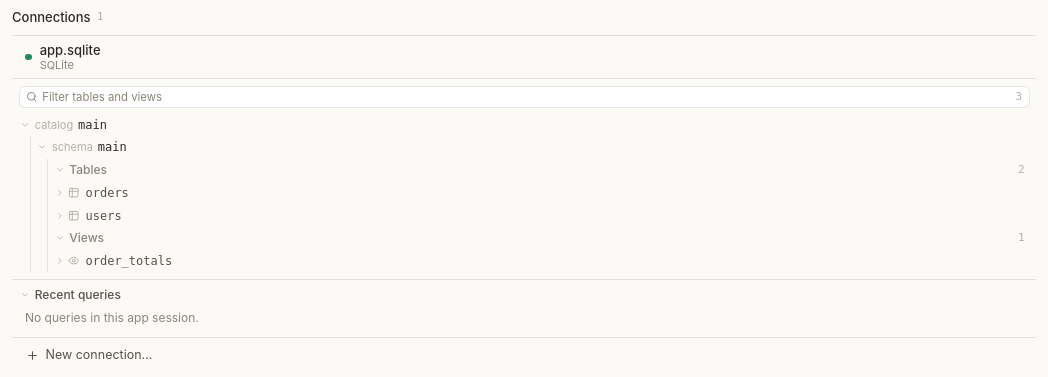
it: DatabaseNavContent P5 bounded regions › filters the object tree by name, reports no matches, and clears on Escape
Expected: the number of list items with test id "db-object-row" is 3, [51,181,1031,204]; [51,204,1031,227]; [51,250,1031,272]
Note: Collapsed groups reopen while filtering so a match is never hidden.
Click the button "Tables 2" at x=88, y=170, box [51,159,1031,181]
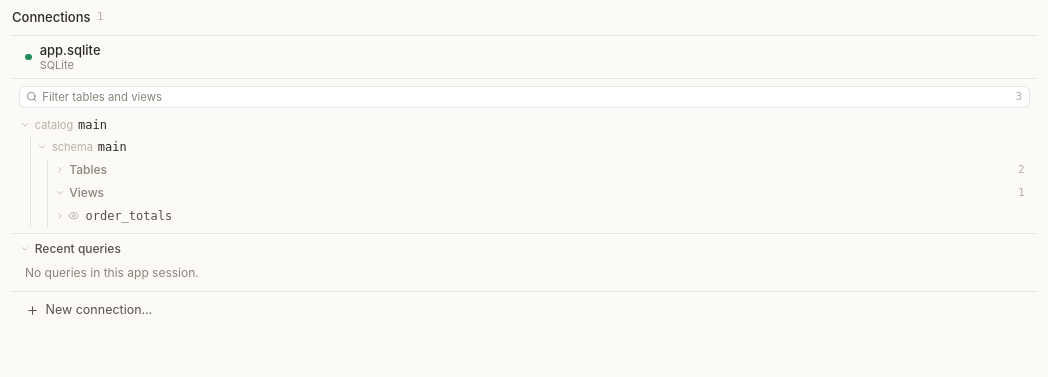
Type "ORDER" into the search field named "Filter database objects" at x=526, y=97, box [37,84,1015,110]
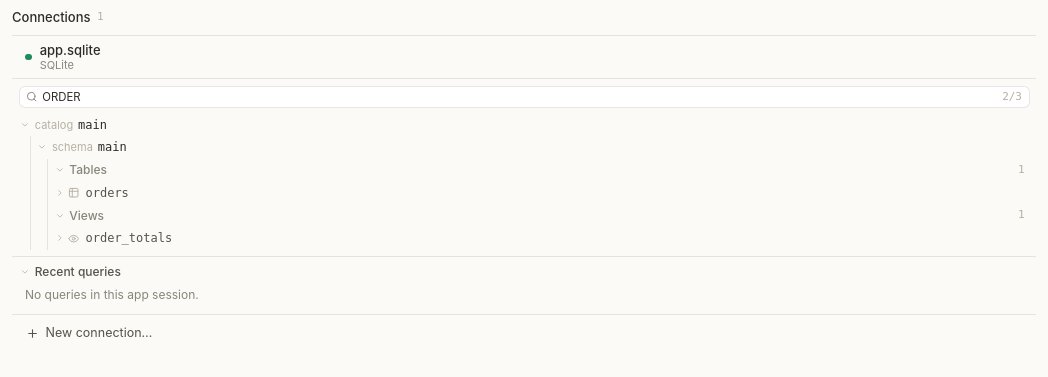
Expected: the elements with test id "db-object-row" read "orders", "order_totals", in this order, [51,181,1031,204]; [51,227,1031,250]
Replace the text in the search field named "Filter database objects" with "missing" at x=520, y=97, box [37,84,1002,110]
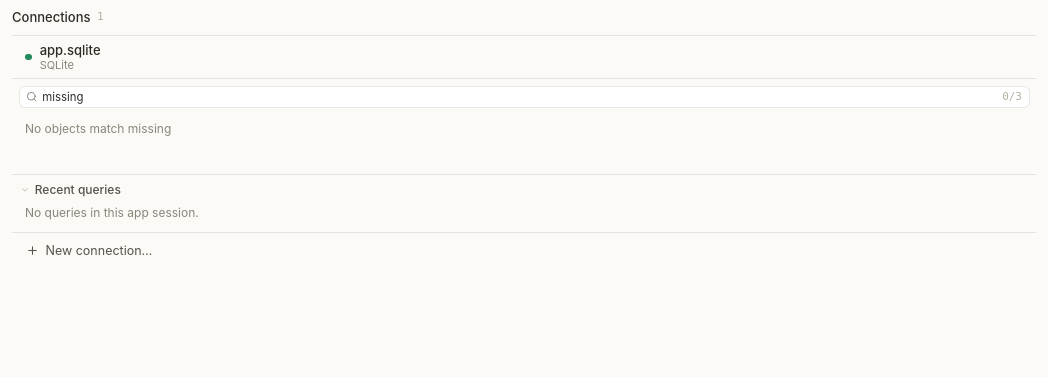
Expected: the list item with test id "db-object-row" is gone
Expected: the message reads "No objects match missing", [25,121,171,136]
Note: Clearing restores the user's own collapse state: Tables stays collapsed.
Press Escape in the search field named "Filter database objects", box [37,84,1002,110]
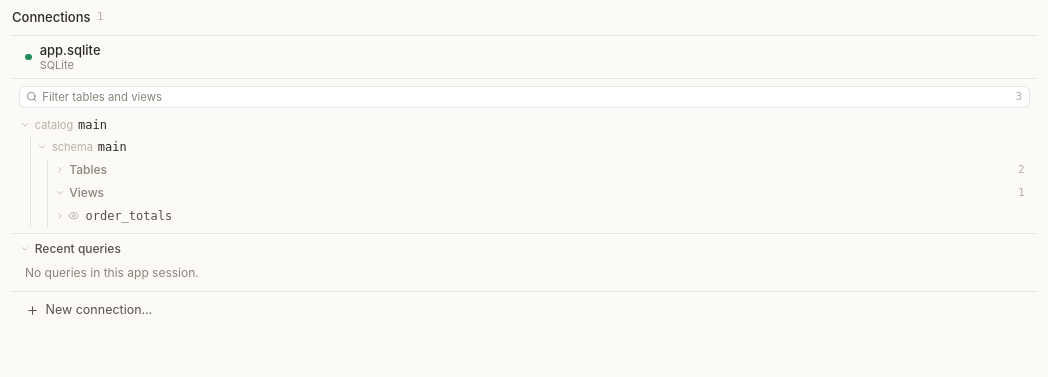
Expected: the search field named "Filter database objects" is empty, [37,84,1015,110]
Expected: the elements with test id "db-object-row" read "order_totals", in this order, [51,204,1031,227]
